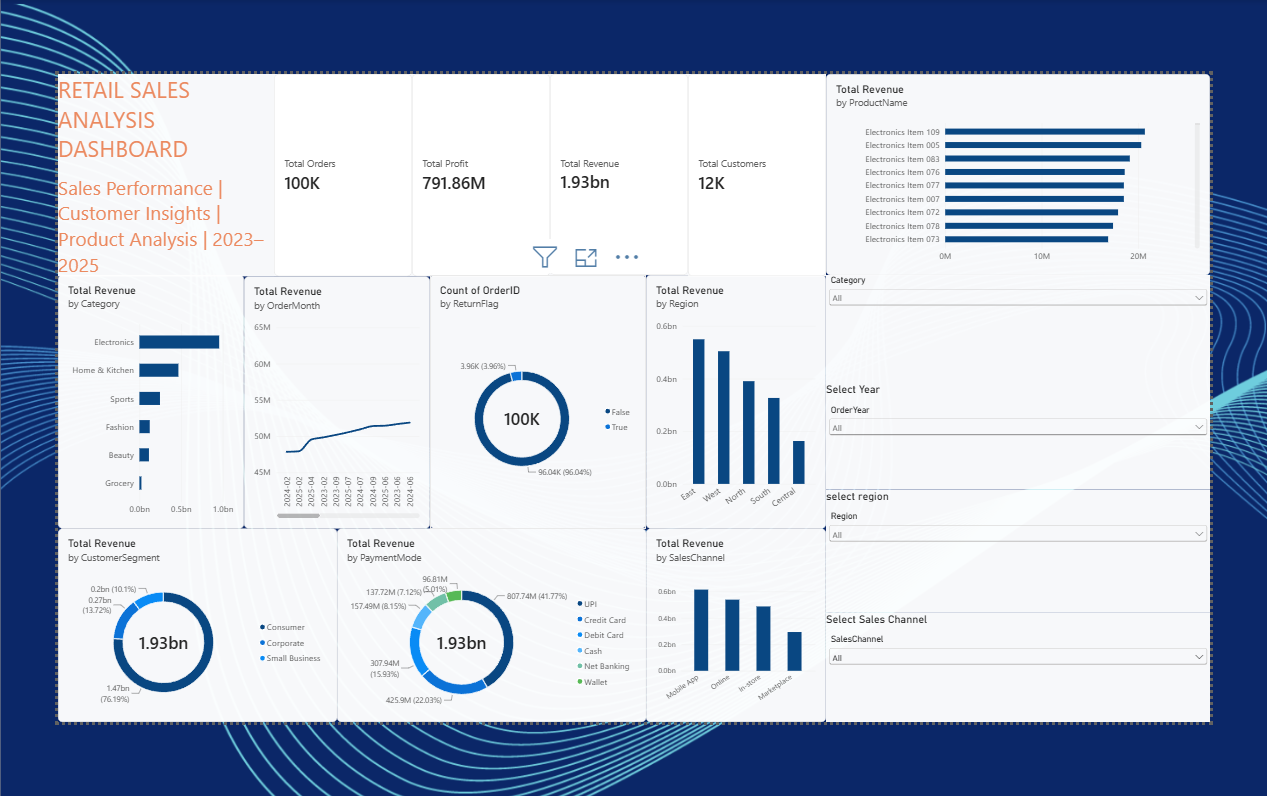

The dashboard page shown, as its layout file describes it:
{"tool":"powerbi","page":{"name":"Page 1","canvas":[1920,1080],"ordinal":0},"visuals":[{"type":"cardVisual","fields":{"Data":["retail_sales_analysis calendar.Total Revenue"]},"box":[820,0,230,335],"z":0},{"type":"cardVisual","fields":{"Data":["retail_sales_analysis calendar.Total Profit"]},"box":[590,0,230,337.5],"z":1000},{"type":"cardVisual","fields":{"Data":["retail_sales_analysis calendar.Total Orders"]},"box":[360,0,230,337.5],"z":2000},{"type":"cardVisual","fields":{"Data":["retail_sales_analysis calendar.Total Customers"]},"box":[1050,0,230,337.5],"z":3000},{"type":"lineChart","fields":{"Category":["retail_sales_analysis retail_transactions_clean.OrderMonth"],"Y":["retail_sales_analysis calendar.Total Revenue"]},"box":[310,337.5,310,420],"z":4000},{"type":"clusteredBarChart","fields":{"Category":["retail_sales_analysis products.Category"],"Y":["retail_sales_analysis calendar.Total Revenue"]},"box":[0,335,310,422.5],"z":5000},{"type":"clusteredColumnChart","fields":{"Category":["retail_sales_analysis stores.Region"],"Y":["retail_sales_analysis calendar.Total Revenue"]},"box":[980,335,300,422.5],"z":6000},{"type":"clusteredBarChart","fields":{"Category":["retail_sales_analysis products.ProductName"],"Y":["retail_sales_analysis calendar.Total Revenue"]},"box":[1280,0,640,335],"z":7000},{"type":"donutChart","fields":{"Category":["retail_sales_analysis customers.CustomerSegment"],"Y":["retail_sales_analysis calendar.Total Revenue"]},"box":[0,757.5,465,322.5],"z":8000},{"type":"donutChart","fields":{"Category":["retail_sales_analysis retail_transactions_clean.PaymentMode"],"Y":["retail_sales_analysis calendar.Total Revenue"]},"box":[465,757.5,515,322.5],"z":9000},{"type":"clusteredColumnChart","fields":{"Category":["retail_sales_analysis retail_transactions_clean.SalesChannel"],"Y":["retail_sales_analysis calendar.Total Revenue"]},"box":[980,757.5,300,322.5],"z":10000},{"type":"donutChart","fields":{"Category":["retail_sales_analysis retail_transactions_clean.ReturnFlag"],"Y":["CountNonNull(retail_sales_analysis retail_transactions_clean.OrderID)"]},"box":[620,335,360,422.5],"z":11000},{"type":"slicer","title":"Select Year","fields":{"Values":["retail_sales_analysis retail_transactions_clean.OrderYear"]},"box":[1280,515,640,177.5],"z":12000},{"type":"slicer","title":"select region","fields":{"Values":["retail_sales_analysis stores.Region"]},"box":[1280,692.5,640,205],"z":13000},{"type":"slicer","fields":{"Values":["retail_sales_analysis products.Category"]},"box":[1280,335,640,180],"z":14000},{"type":"slicer","title":"Select Sales Channel","fields":{"Values":["retail_sales_analysis retail_transactions_clean.SalesChannel"]},"box":[1280,897.5,640,182.5],"z":15000},{"type":"textbox","box":[0,0,360,337.5],"z":16000}]}

Visuals, with their boxes on the page's 1920x1080 design canvas (x1, y1, x2, y2). These are canvas units, not pixel positions in the 1267x796 screenshot, which may show the page scaled, cropped or inside an application window:
cardVisual - retail_sales_analysis calendar.Total Revenue: box(820, 0, 1050, 335)
cardVisual - retail_sales_analysis calendar.Total Profit: box(590, 0, 820, 338)
cardVisual - retail_sales_analysis calendar.Total Orders: box(360, 0, 590, 338)
cardVisual - retail_sales_analysis calendar.Total Customers: box(1050, 0, 1280, 338)
lineChart - retail_sales_analysis retail_transactions_clean.OrderMonth x retail_sales_analysis calendar.Total Revenue: box(310, 338, 620, 758)
clusteredBarChart - retail_sales_analysis products.Category x retail_sales_analysis calendar.Total Revenue: box(0, 335, 310, 758)
clusteredColumnChart - retail_sales_analysis stores.Region x retail_sales_analysis calendar.Total Revenue: box(980, 335, 1280, 758)
clusteredBarChart - retail_sales_analysis products.ProductName x retail_sales_analysis calendar.Total Revenue: box(1280, 0, 1920, 335)
donutChart - retail_sales_analysis customers.CustomerSegment x retail_sales_analysis calendar.Total Revenue: box(0, 758, 465, 1080)
donutChart - retail_sales_analysis retail_transactions_clean.PaymentMode x retail_sales_analysis calendar.Total Revenue: box(465, 758, 980, 1080)
clusteredColumnChart - retail_sales_analysis retail_transactions_clean.SalesChannel x retail_sales_analysis calendar.Total Revenue: box(980, 758, 1280, 1080)
donutChart - retail_sales_analysis retail_transactions_clean.ReturnFlag x CountNonNull(retail_sales_analysis retail_transactions_clean.OrderID): box(620, 335, 980, 758)
"Select Year" slicer: box(1280, 515, 1920, 692)
"select region" slicer: box(1280, 692, 1920, 898)
slicer - retail_sales_analysis products.Category: box(1280, 335, 1920, 515)
"Select Sales Channel" slicer: box(1280, 898, 1920, 1080)
textbox: box(0, 0, 360, 338)
